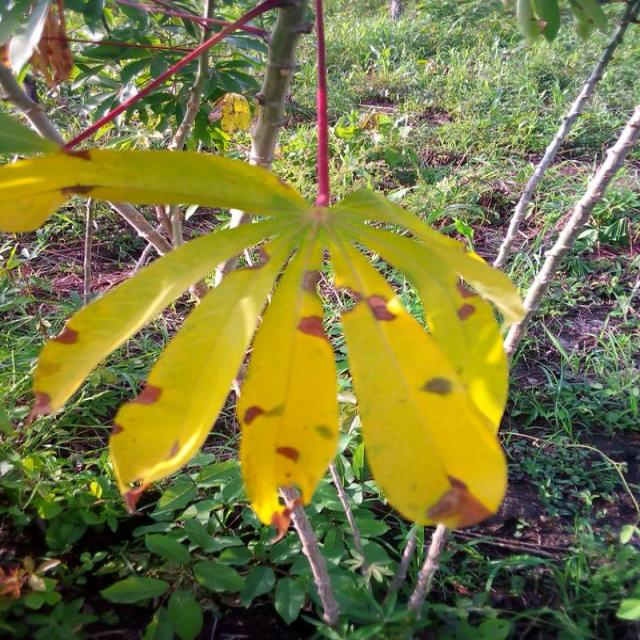cassava leaf: (5, 143, 526, 534), (236, 237, 341, 528)
